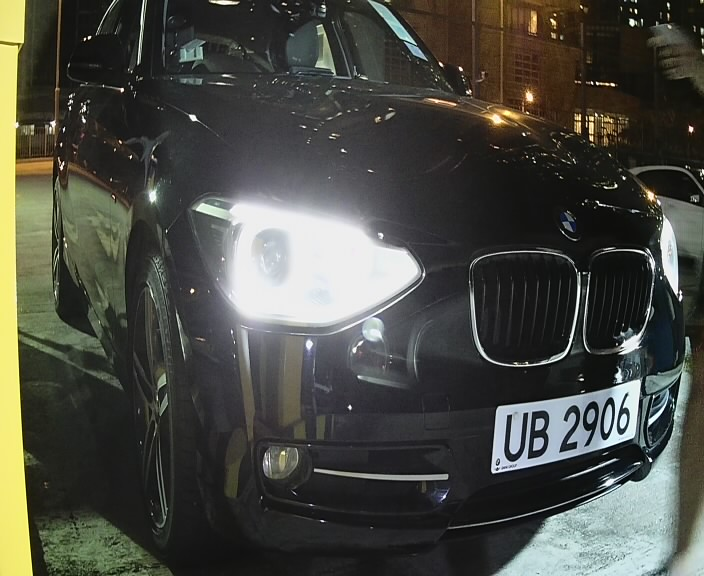Car: (64, 8, 694, 576)
License Plate: (479, 378, 650, 476)
